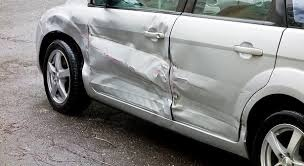Dent: (82, 9, 202, 126), (42, 14, 87, 46)
